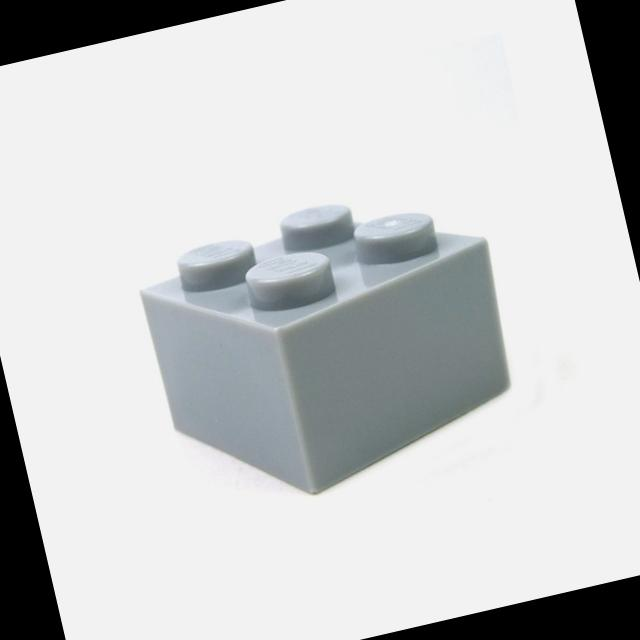2x2: (140, 205, 508, 492)
